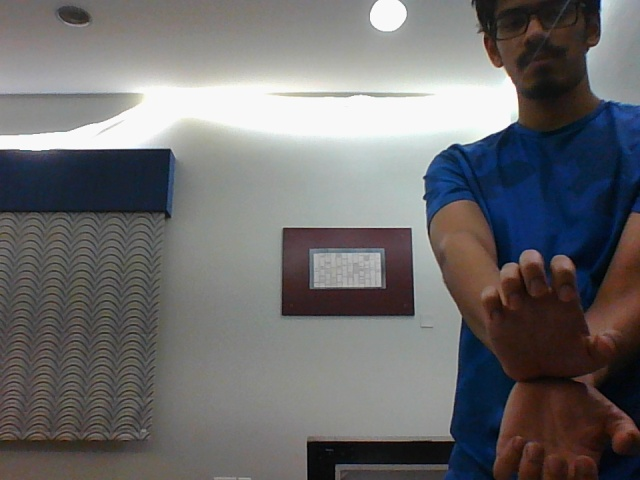blast: (466, 249, 638, 477)
